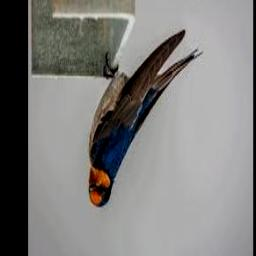Swallow: (89, 30, 203, 207)
